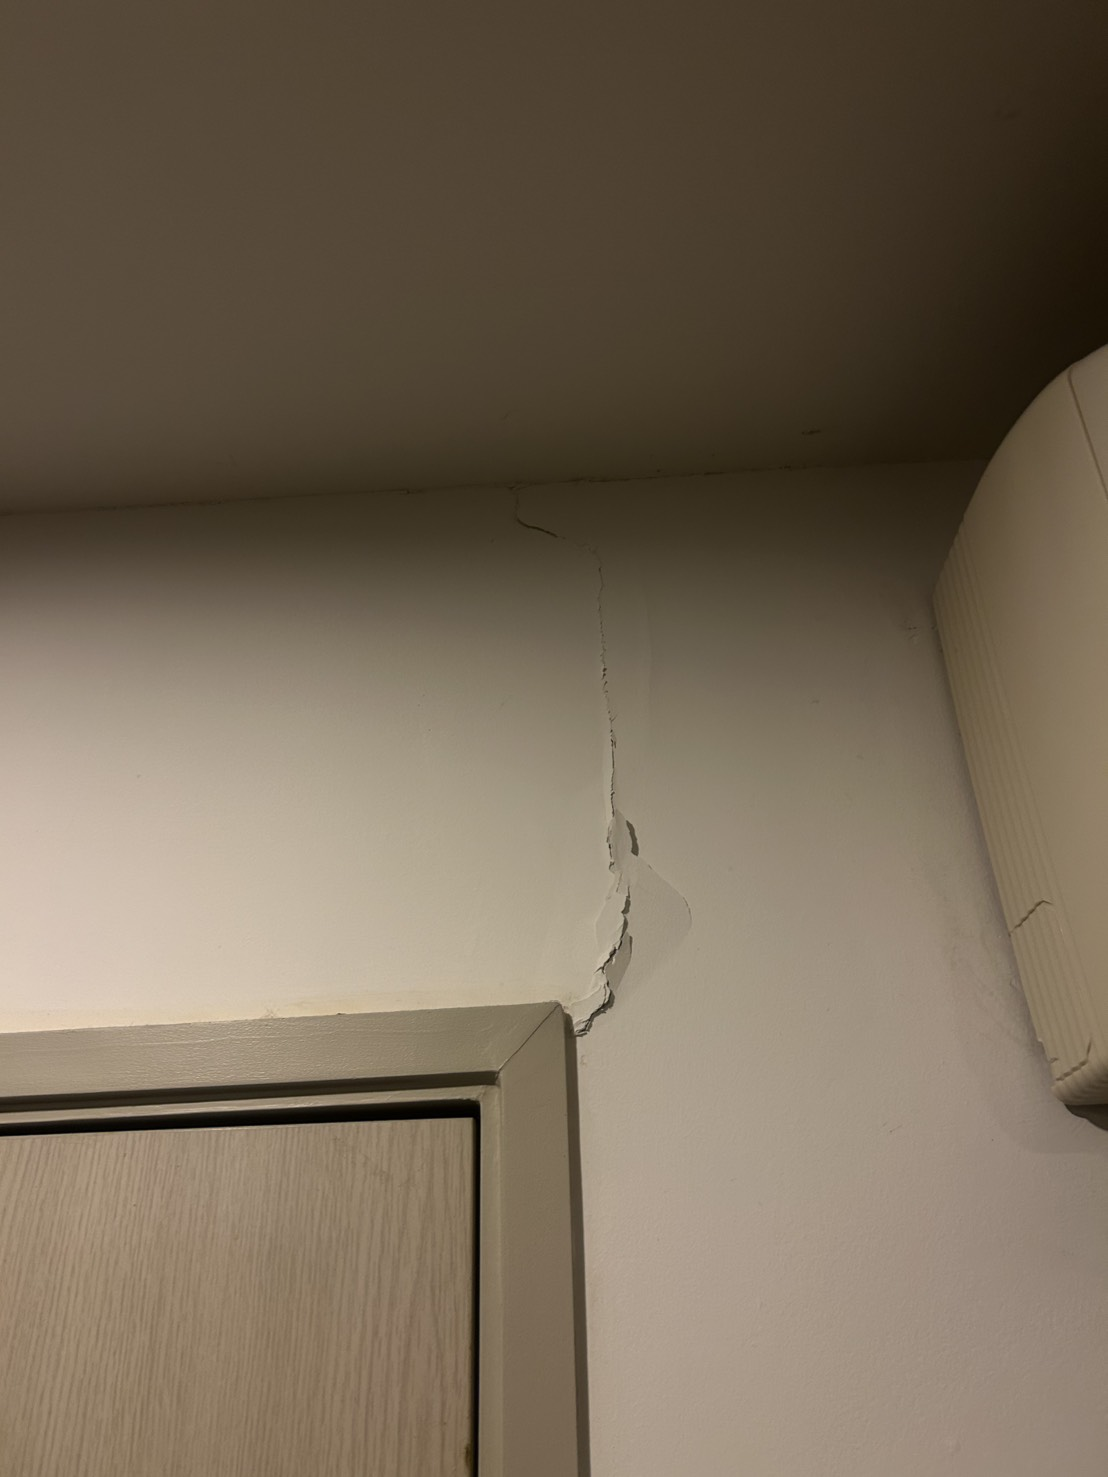Low: (462, 482, 716, 1075)
